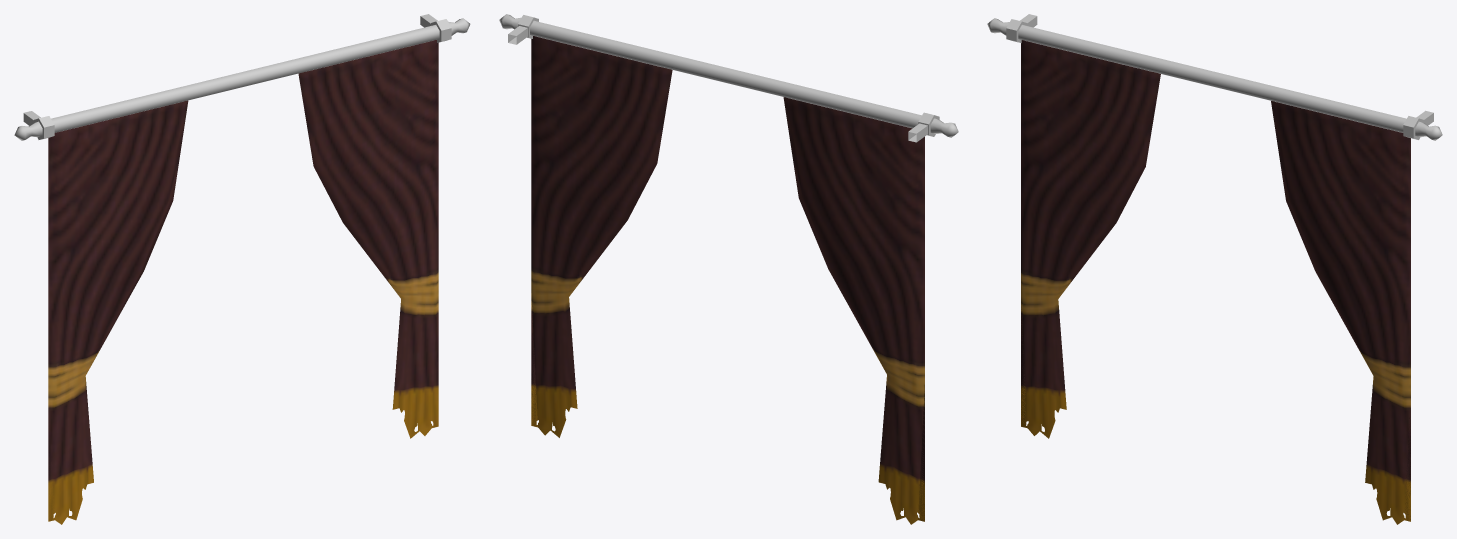
File: Curtain_2C.fbx
3 renders of one model, left to right at view 1: azimuth 30°, elevation 25°; view 2: azimuth 150°, elevation 25°; view 3: azimuth 330°, elevation 25°, orthographic.
Visible parts, largest first — view 1: Alpha, polySurface7422; view 2: Alpha, polySurface7422; view 3: Alpha, polySurface7422.
Part boxes in pixels (x1,y1,x2,y2): Alpha: [48, 40, 438, 524]; polySurface7422: [14, 14, 470, 140]; Alpha: [531, 36, 924, 524]; polySurface7422: [499, 14, 958, 142]; Alpha: [1021, 40, 1410, 524]; polySurface7422: [987, 14, 1442, 140].
Size of the model in its own units: 4.36 by 3.77 by 0.359.
